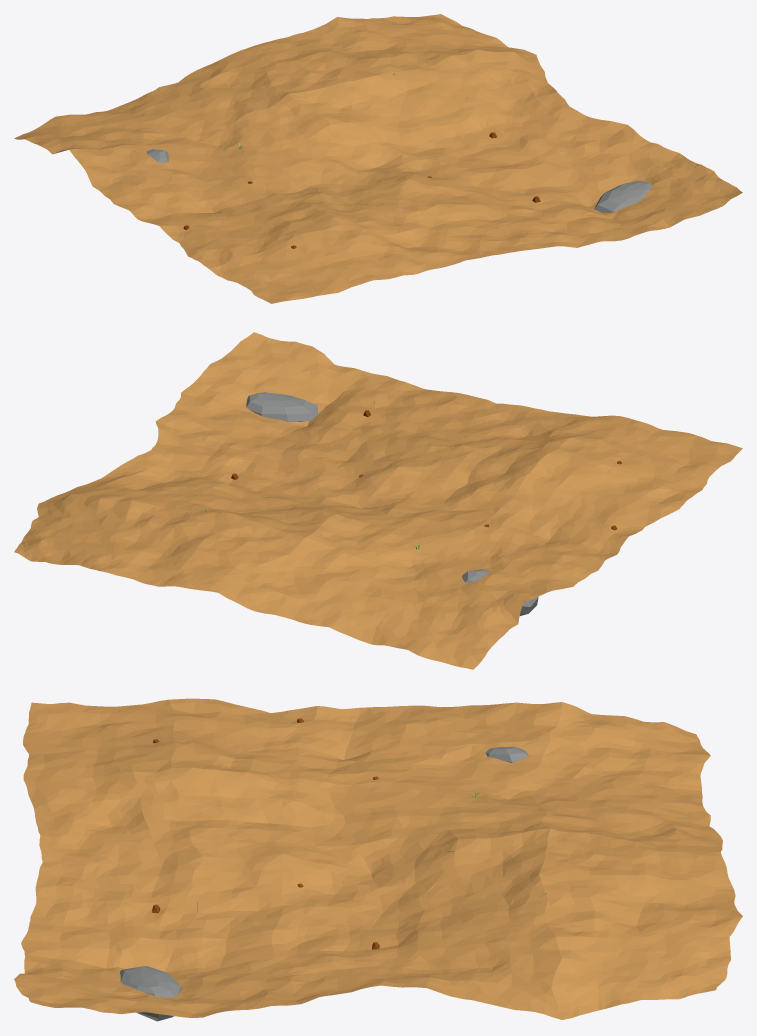
The model's file is stage_1.fbx.
3 renders of one model, top to bottom at view 1: azimuth 30°, elevation 25°; view 2: azimuth 150°, elevation 25°; view 3: azimuth 270°, elevation 25°, orthographic. The views are drawn at different scales.
Visible parts, largest first — view 1: Environment_1; view 2: Environment_1; view 3: Environment_1.
Boxes of the visible parts, x1,y1,x2,y2 form: Environment_1: (14,14,742,303); Environment_1: (14,332,742,669); Environment_1: (14,698,742,1021).
Size of the model in its own units: 2142 by 230 by 2155.
